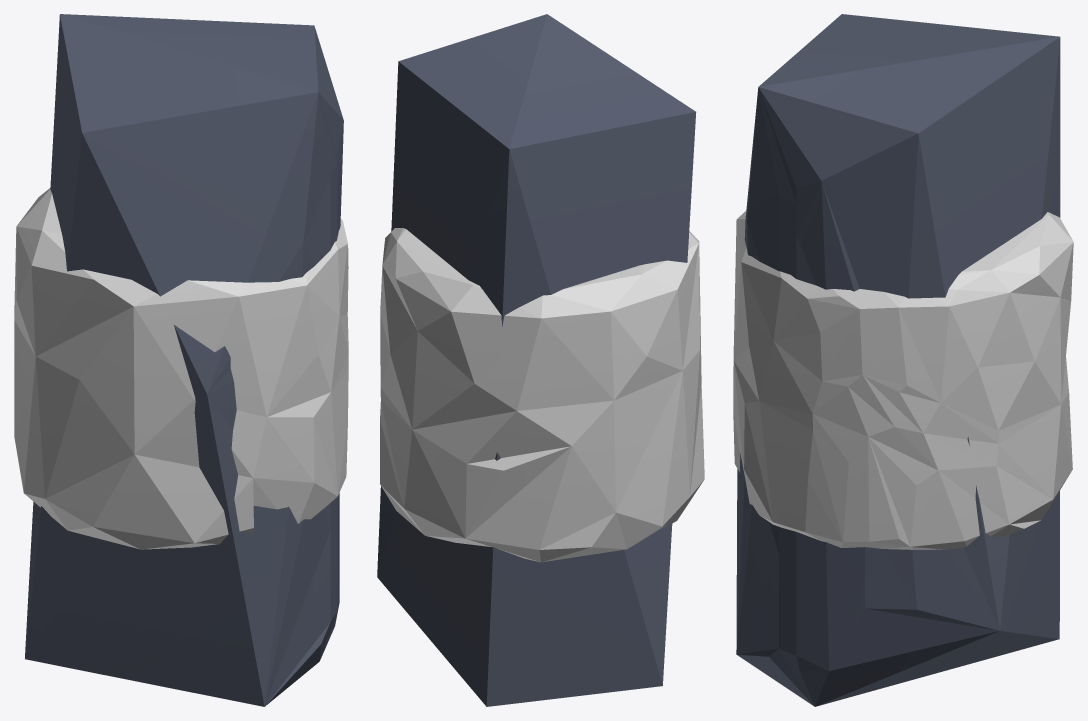
Rendered from gear_pile.glb.
3 renders of one model, left to right at view 1: azimuth 30°, elevation 25°; view 2: azimuth 150°, elevation 25°; view 3: azimuth 270°, elevation 25°, orthographic. The views are drawn at different scales.
Parts seen in each view (by area): view 1: torso__pile, torso__pile_glow; view 2: torso__pile, torso__pile_glow; view 3: torso__pile, torso__pile_glow.
Part boxes in pixels (left/top/right/bottom): torso__pile: left=25, top=14, right=343, bottom=706; torso__pile_glow: left=14, top=188, right=348, bottom=549; torso__pile: left=377, top=14, right=696, bottom=706; torso__pile_glow: left=380, top=228, right=704, bottom=562; torso__pile: left=736, top=14, right=1060, bottom=706; torso__pile_glow: left=733, top=211, right=1073, bottom=549.
Bounding box in the file's own units: 0.0988 × 0.1942 × 0.0989.
